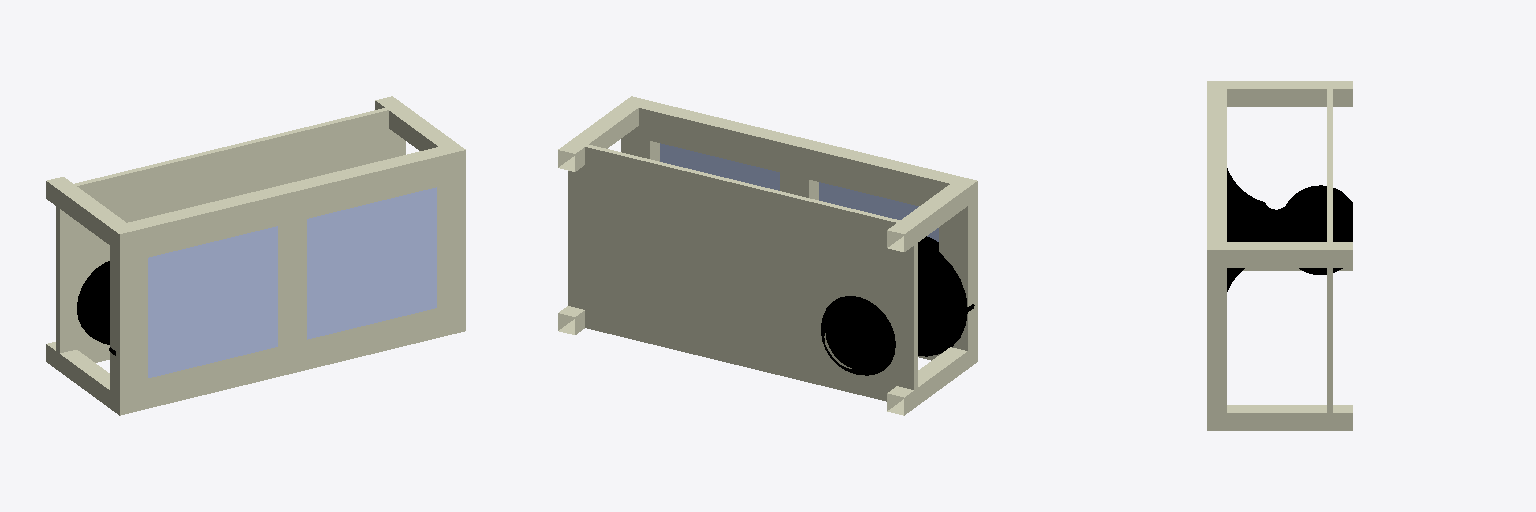
The picture shows the model from 3 angles: view 1: azimuth 30°, elevation 25°; view 2: azimuth 150°, elevation 25°; view 3: azimuth 270°, elevation 25°; orthographic projection.
Visible parts, largest first — view 1: ec587f[number redacted]de529cc3e5ff518065b, 12d643221a3edaa4ab361b6be63163da; view 2: ec587f[number redacted]de529cc3e5ff518065b, 12d643221a3edaa4ab361b6be63163da; view 3: ec587f[number redacted]de529cc3e5ff518065b, 12d643221a3edaa4ab361b6be63163da.
Part boxes in pixels (x1,y1,x2,y2): ec587f[number redacted]de529cc3e5ff518065b: (46, 96, 465, 415); 12d643221a3edaa4ab361b6be63163da: (77, 261, 115, 355); ec587f[number redacted]de529cc3e5ff518065b: (558, 96, 977, 415); 12d643221a3edaa4ab361b6be63163da: (821, 236, 974, 375); ec587f[number redacted]de529cc3e5ff518065b: (1207, 81, 1352, 430); 12d643221a3edaa4ab361b6be63163da: (1227, 168, 1352, 291).
Bounding box in the file's own units: 1.4 × 0.6986 × 0.5123.